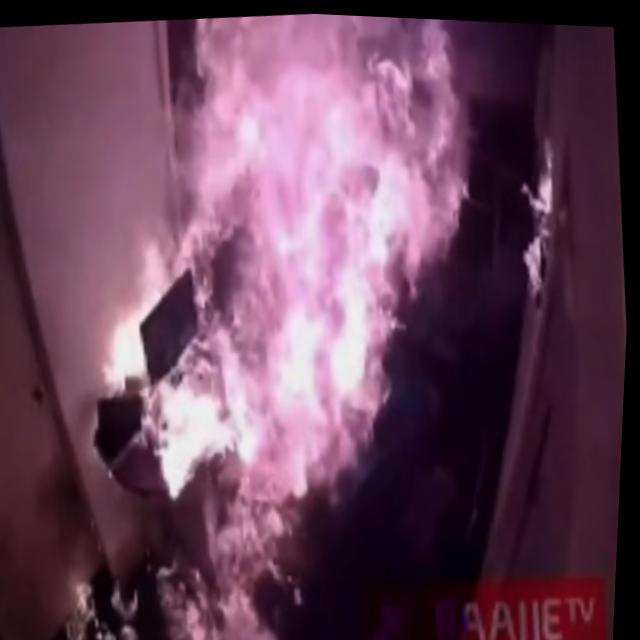fire: (173, 7, 410, 460), (361, 13, 461, 307), (221, 443, 319, 578), (428, 15, 472, 244), (152, 372, 220, 500), (184, 575, 280, 639), (106, 319, 148, 391), (137, 241, 167, 292)
